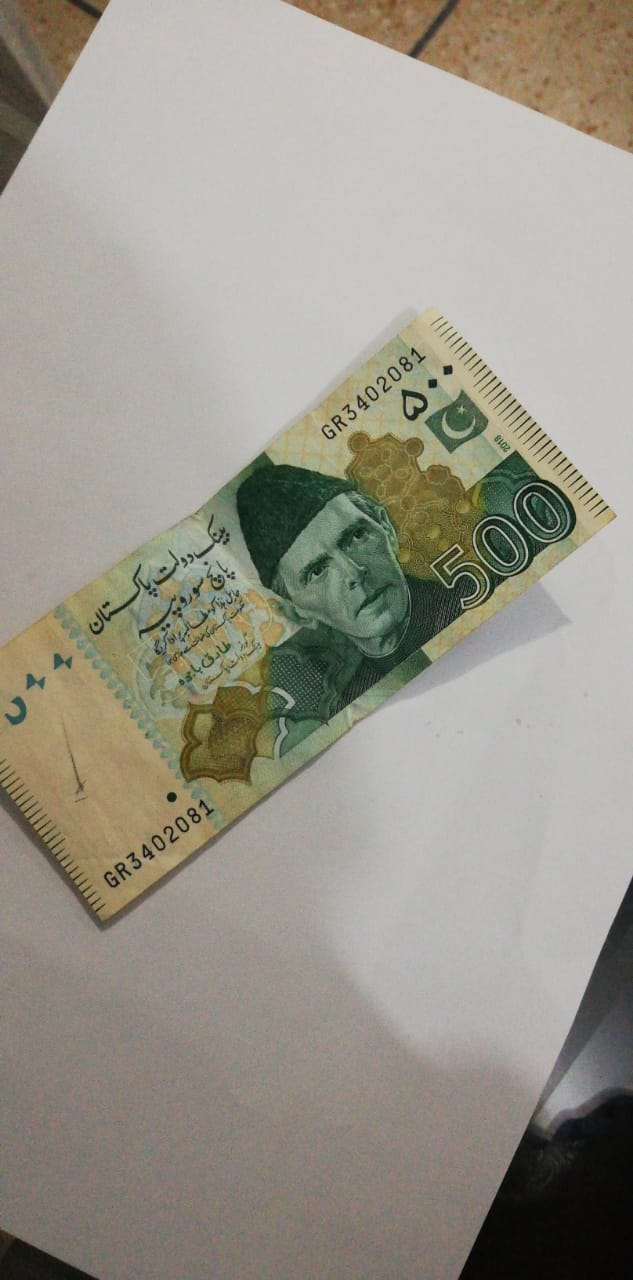500 rupee: (3, 305, 611, 956)
